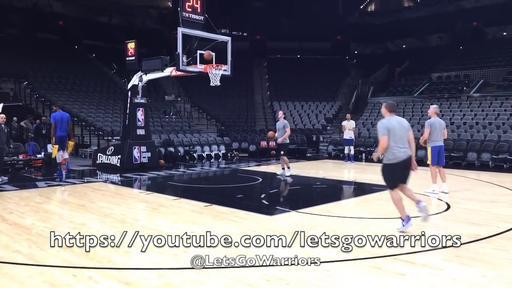ball: (204, 50, 212, 60), (268, 130, 274, 138)
human: (372, 101, 428, 232), (419, 104, 449, 194), (51, 104, 74, 179), (274, 111, 292, 177), (341, 113, 356, 162)
rim: (204, 64, 225, 86)
